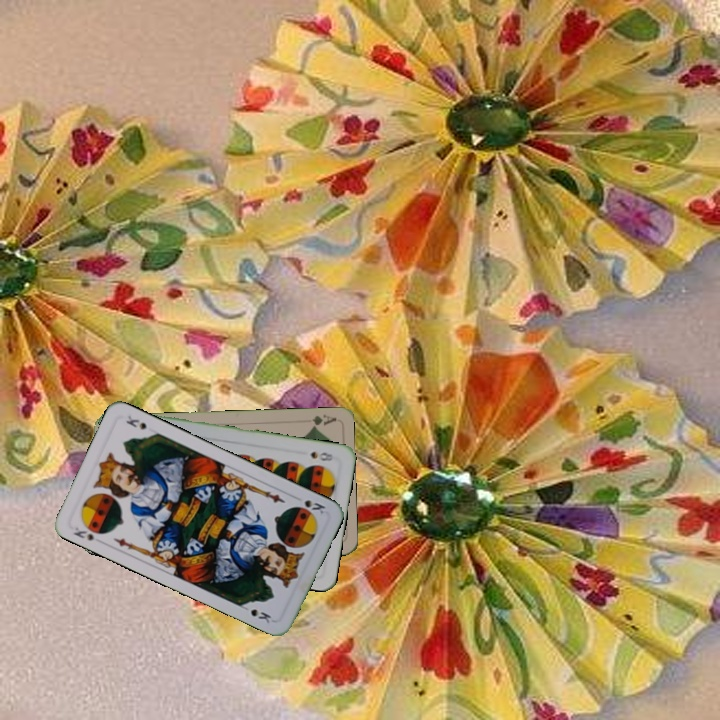GA: (308, 410, 337, 431)
S8: (307, 448, 336, 464)
SK: (290, 492, 328, 517), (69, 523, 96, 544)
